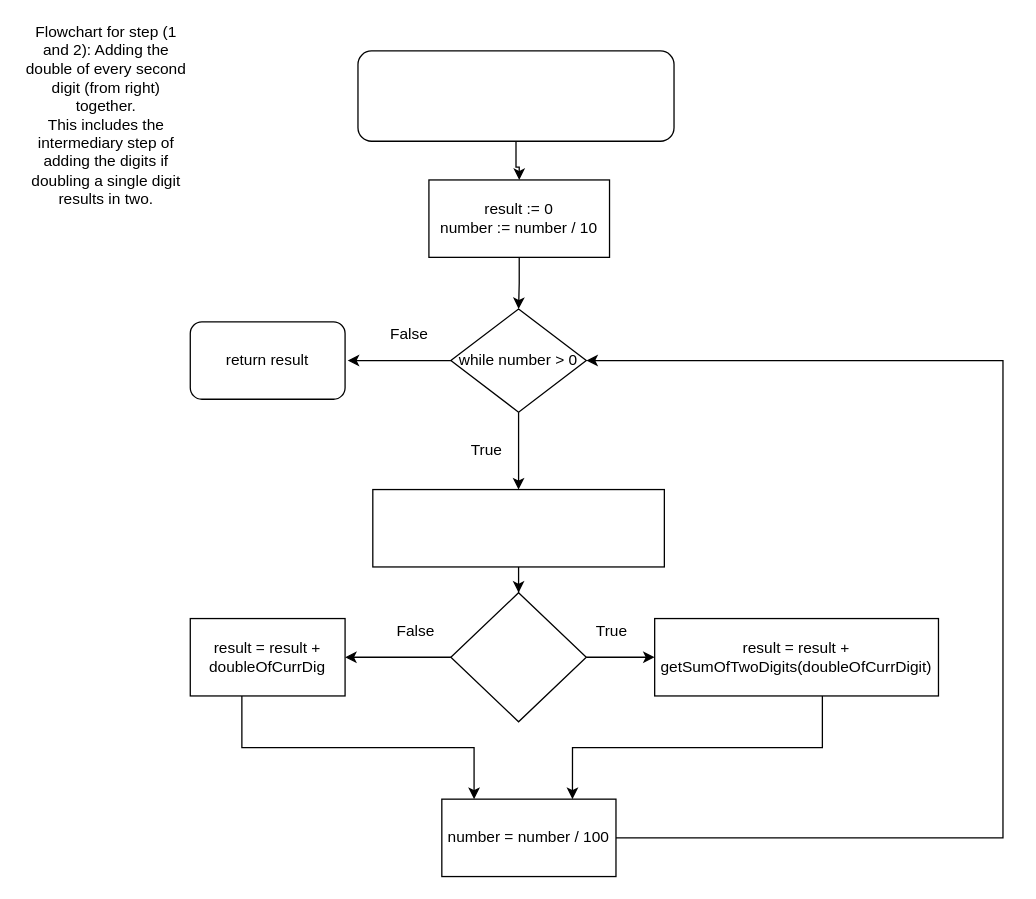
Image size: 1036x899. Some labels were removed from this diagram. The shapes that lost their labels are listed below. From the top down, each one's box as (x1, y1, x2, y2) in pixels, then its label:
(357, 50, 674, 141): adAllEvenDigits(number)
(372, 488, 664, 567): doubleOfCurrDig := 2 * (number % 10)
(450, 591, 586, 722): if doubleOfCurrDig > 9
